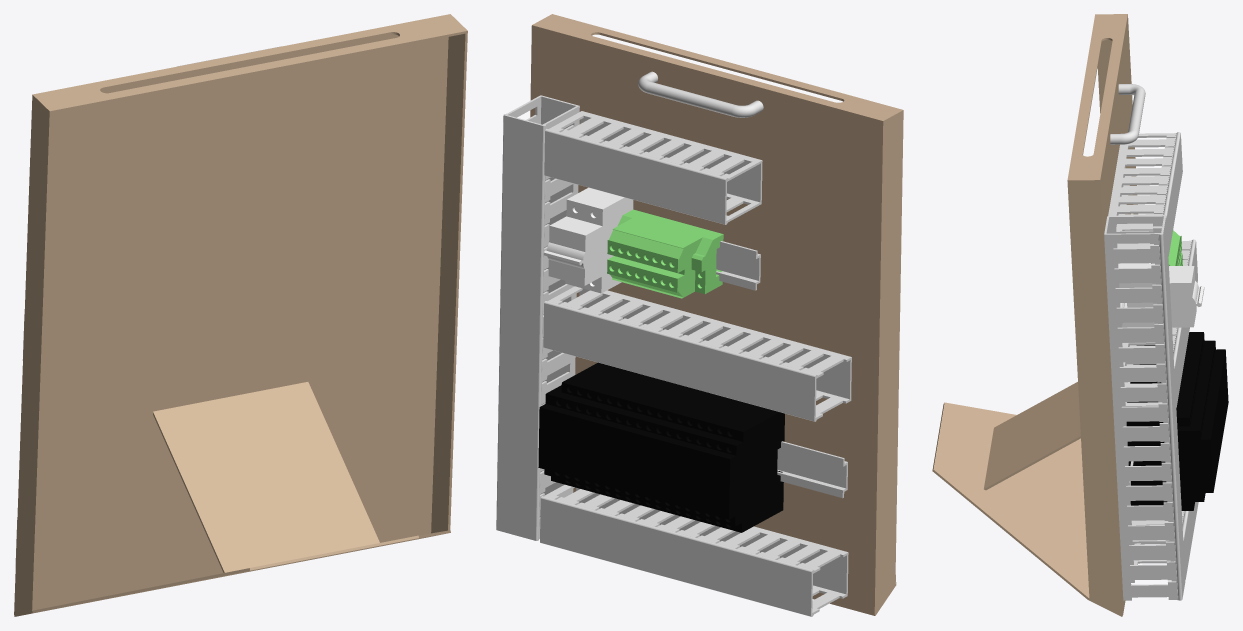
File: plc lama.fbx
3 views of the same model, side by side, from view 1: azimuth 30°, elevation 25°; view 2: azimuth 150°, elevation 25°; view 3: azimuth 270°, elevation 25° (orthographic). The views are drawn at different scales.
Parts seen in each view (by area): view 1: Body; view 2: Body; view 3: Body.
Boxes of the visible parts, bbox=[...] form: Body: bbox=[14, 14, 467, 616]; Body: bbox=[496, 14, 903, 616]; Body: bbox=[932, 14, 1228, 616].
Bounding box in the file's own units: 53.26 × 66.83 × 40.5.
